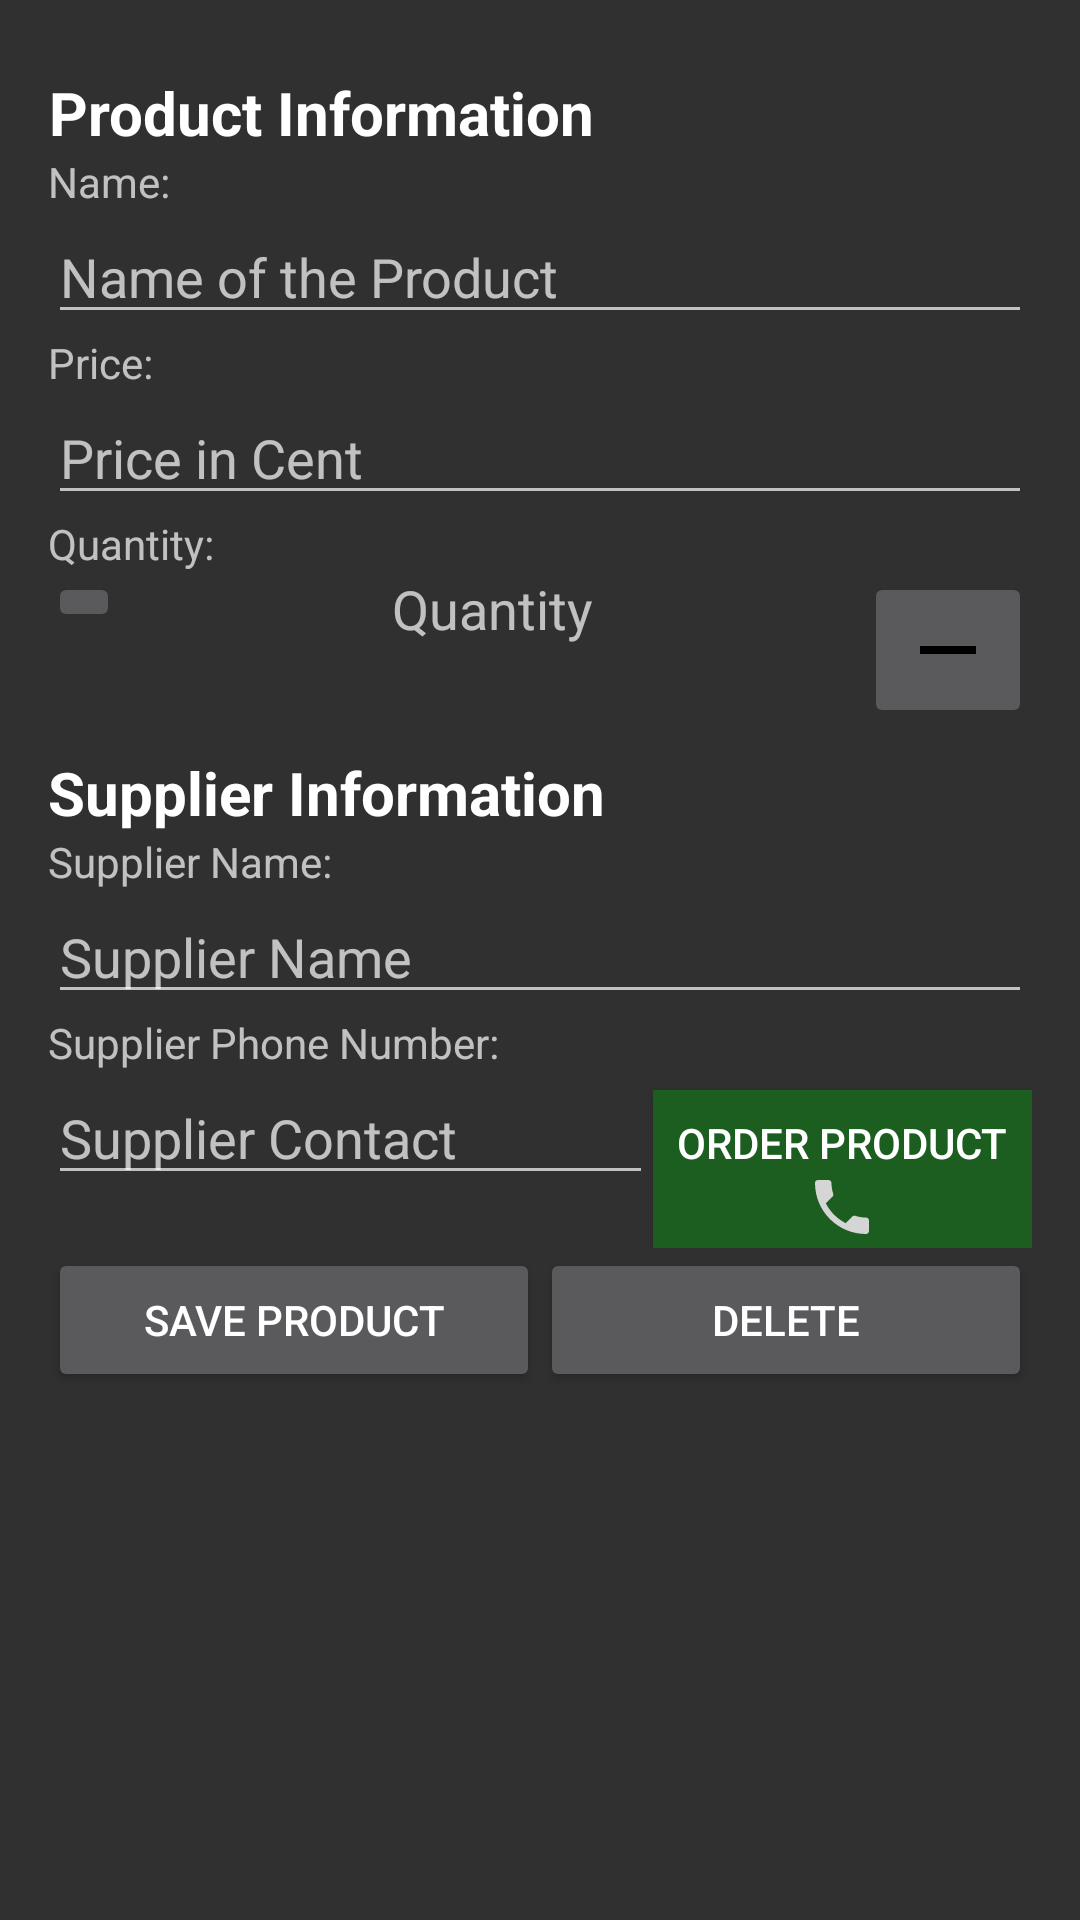

Named icons in this screenshot (1080px x 1920px) and their centers, [x,y]:
remove: [948,650]
